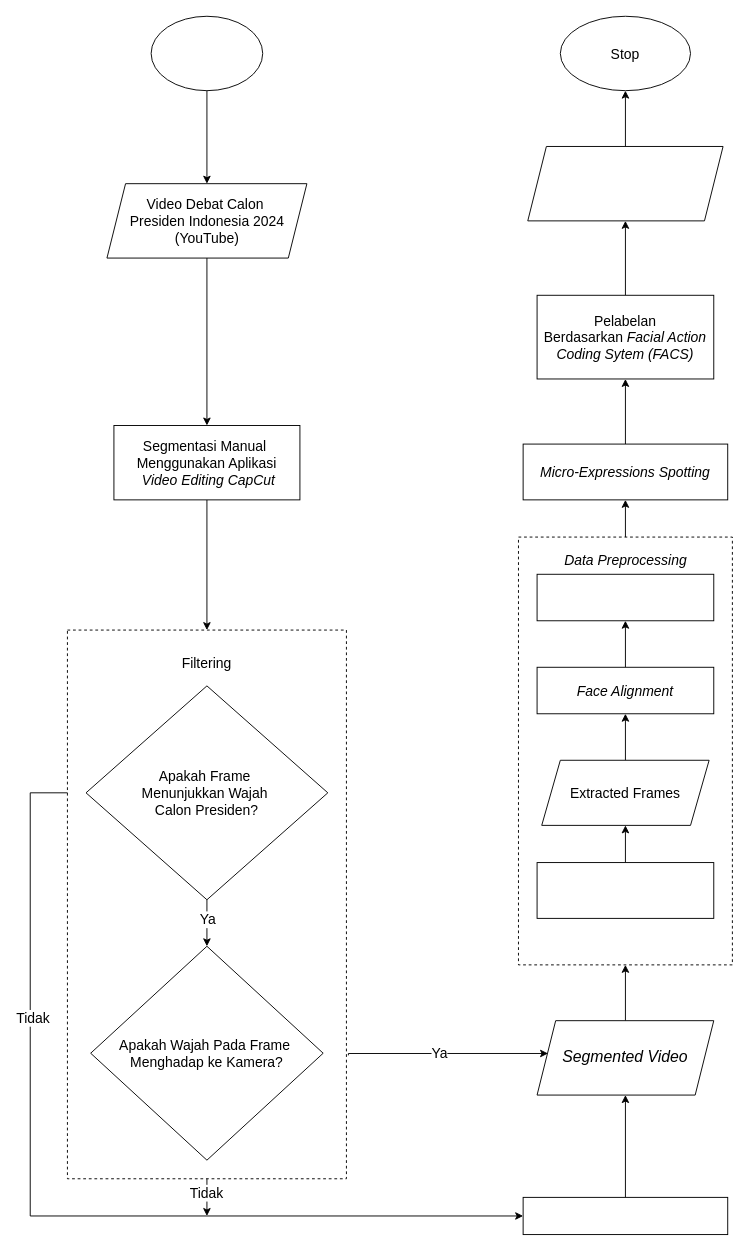
The diagram is 749 pixels wide and 1251 high, and some of its shapes have lost their labels. Each missing label, with the centre of its shape:
"Ekstraksi 10 FPS" goes at pixel 625 890.
"Hapus Frame" goes at pixel 625 1215.
"Image Resizing" goes at pixel 625 597.
"Labeled dataset" goes at pixel 625 183.
"Start" goes at pixel 206 53.
